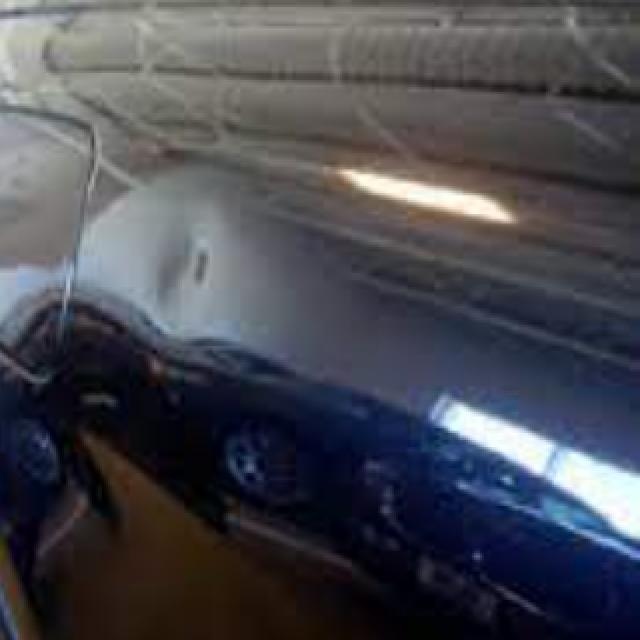dents: (137, 196, 234, 360)
